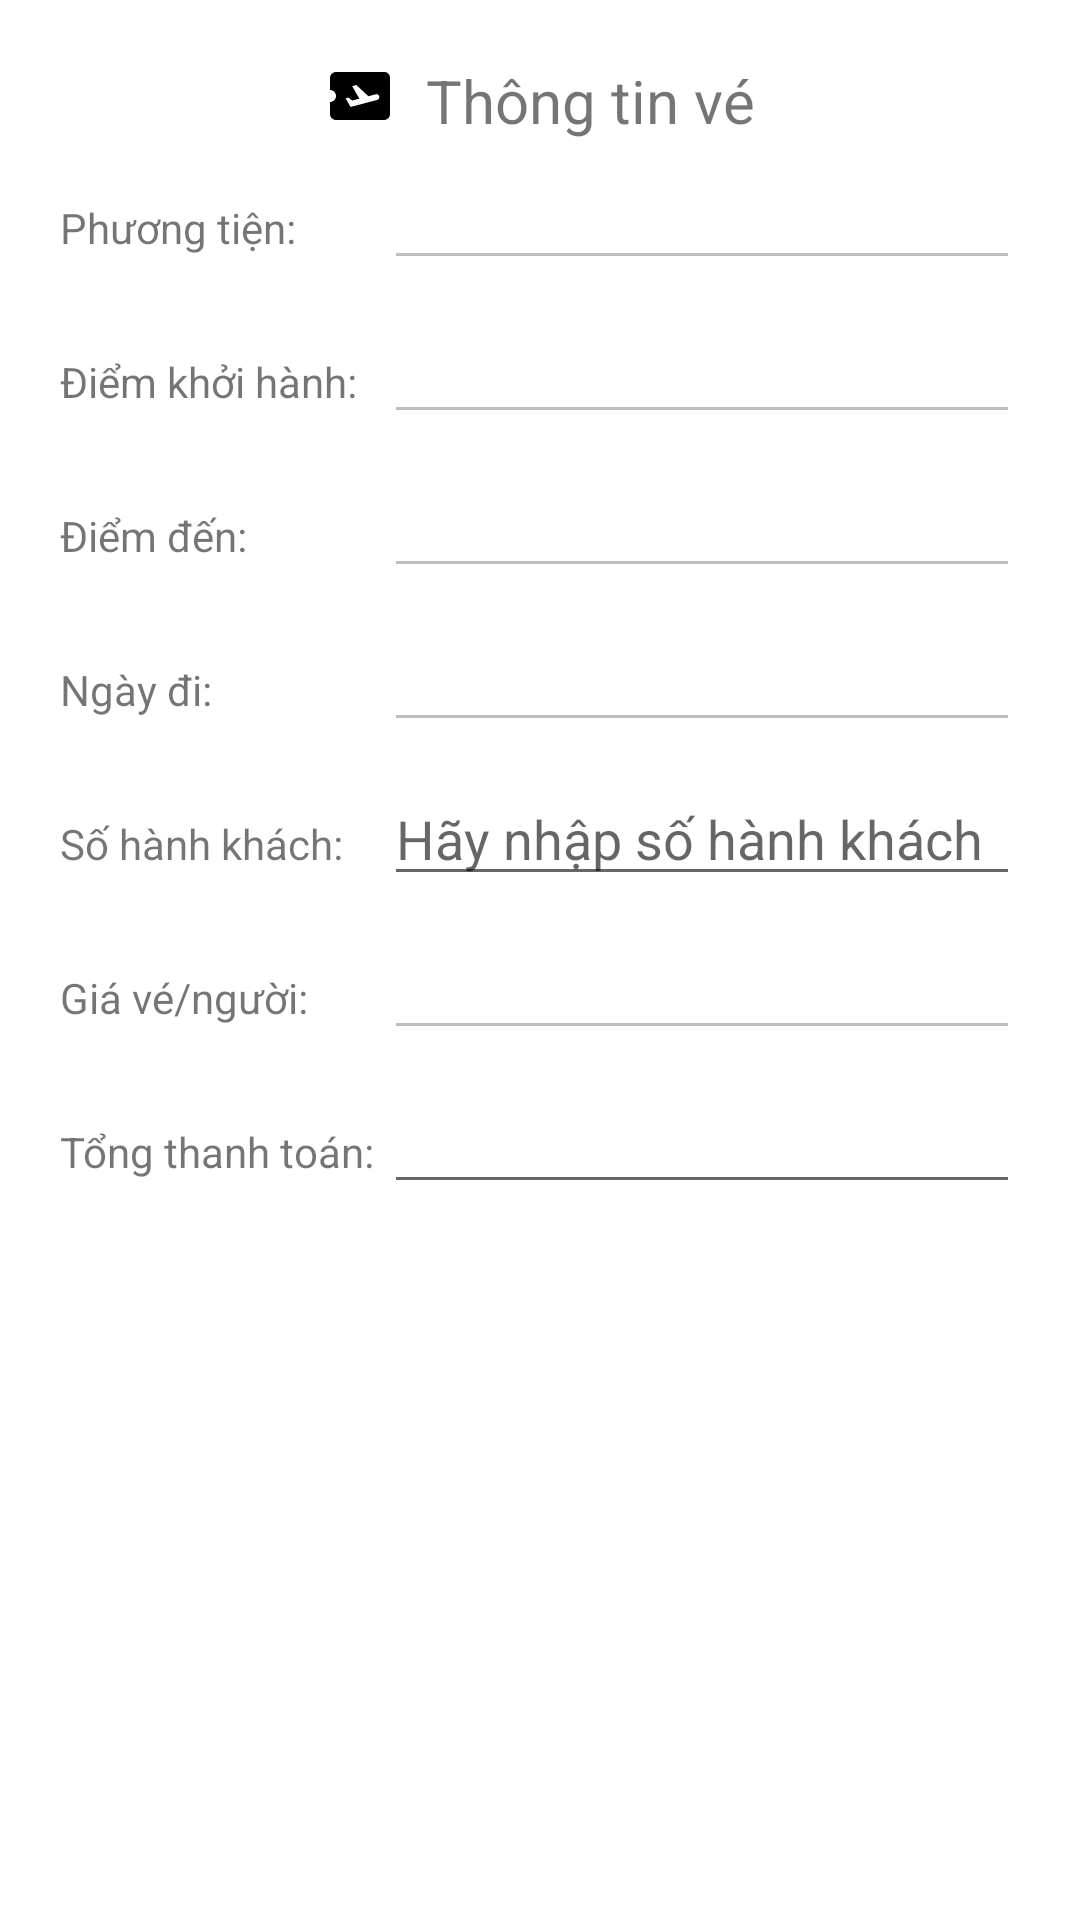

Locate icon controls on the screen. Image size 1080×1920, boxes as (x1, y1, x2, y2).
plane ticket: (330, 72, 390, 120)
